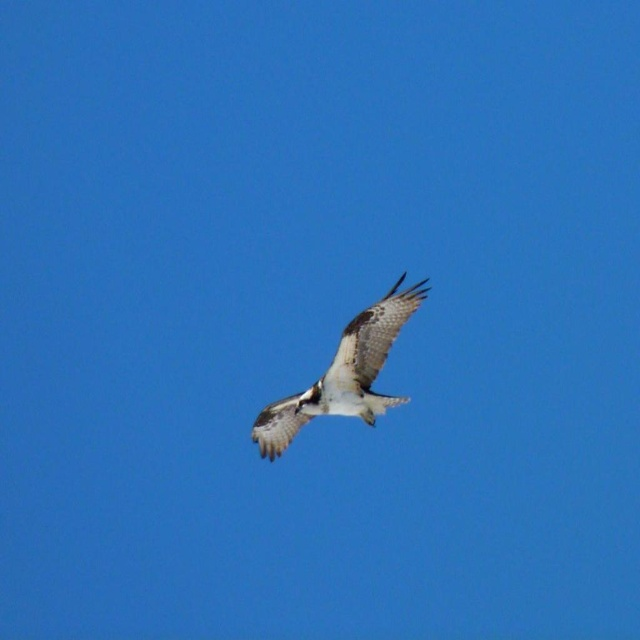Eagle: (250, 271, 434, 471)
